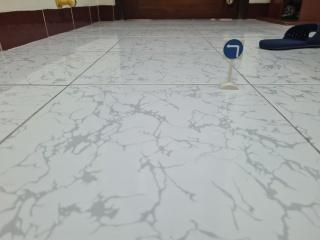left: (217, 29, 256, 62)
